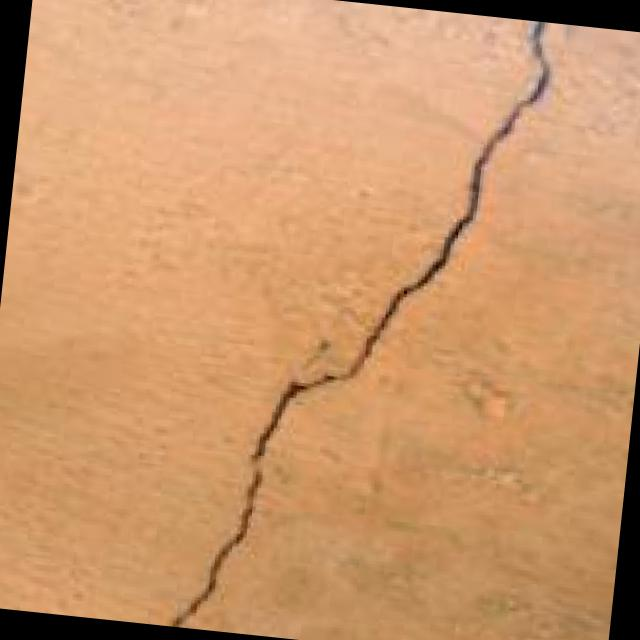crack: (159, 0, 576, 640)
